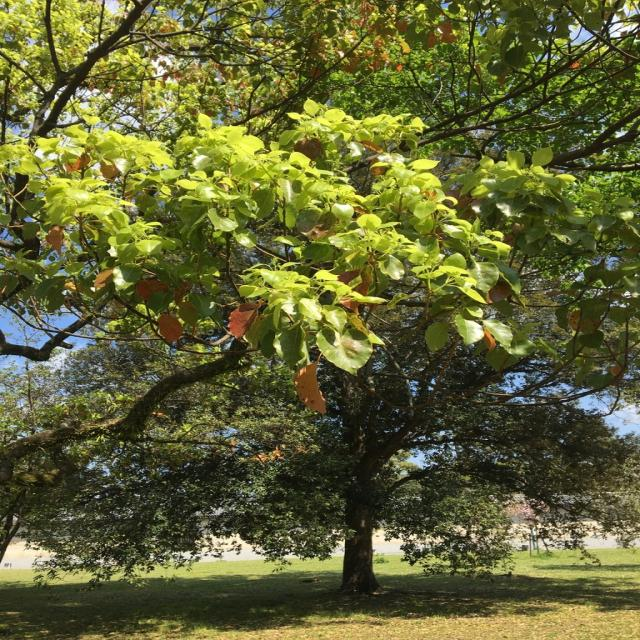camphor: (0, 0, 640, 587)
